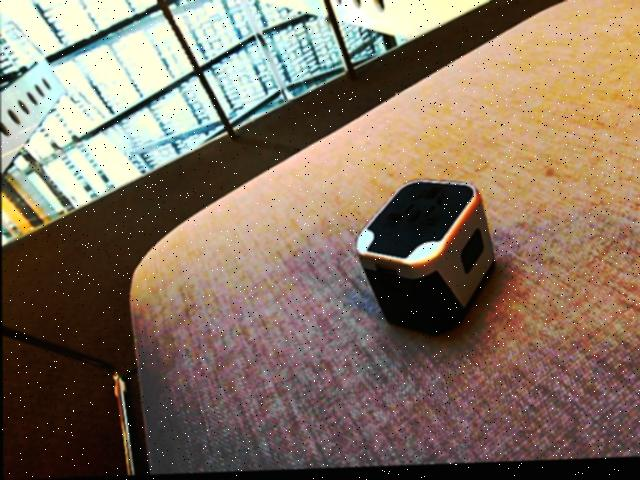adapter: (355, 179, 495, 340)
